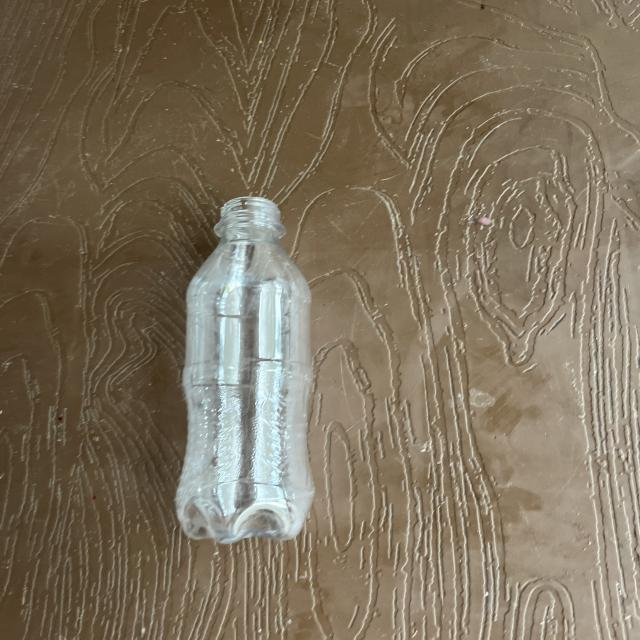PET_ClearBottle: (161, 194, 332, 636)
